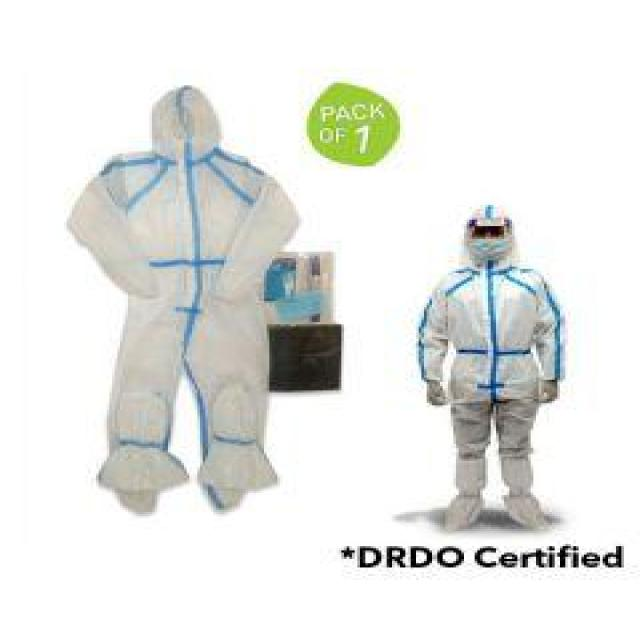Coverall: (65, 83, 301, 519), (404, 202, 570, 537)
